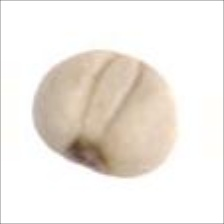L5: (78, 52, 146, 143), (60, 134, 115, 176)
L6: (29, 47, 182, 181)
